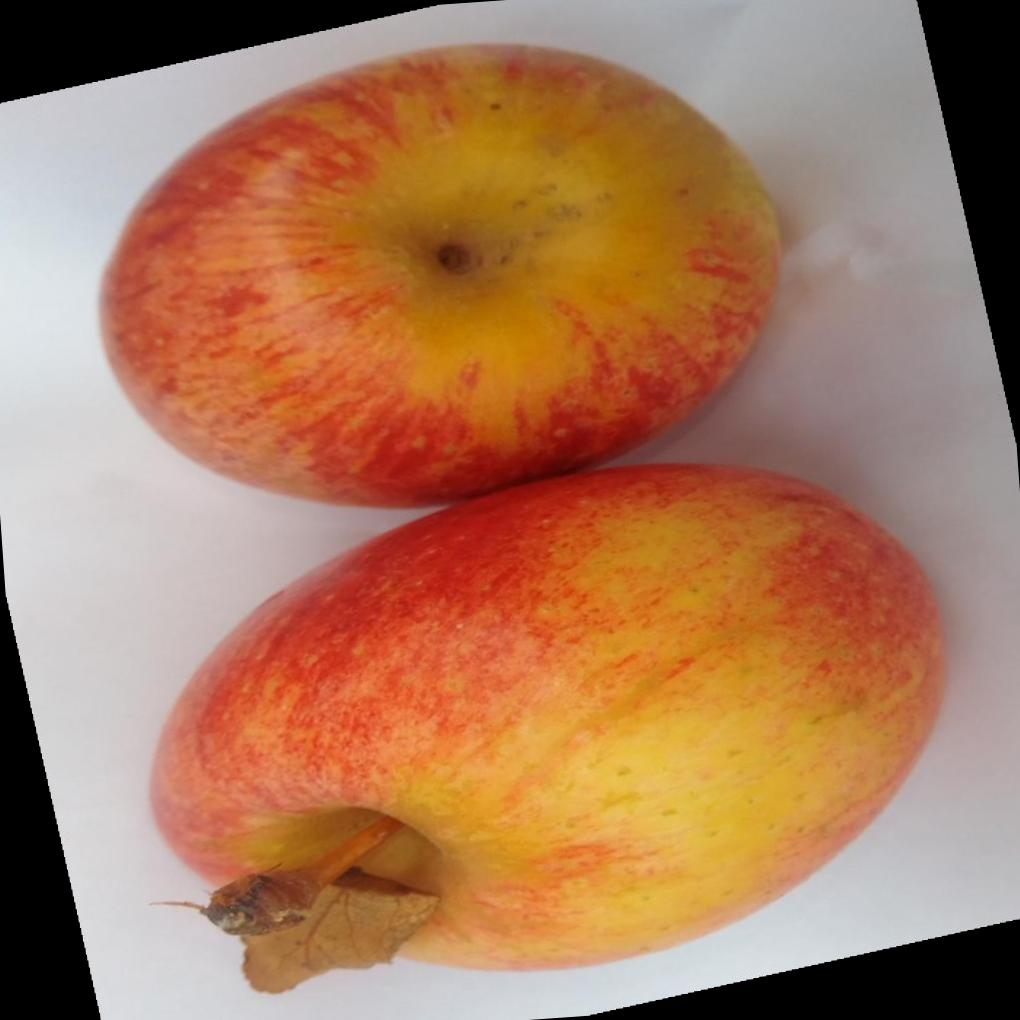FreshGuava: (94, 36, 950, 993)
